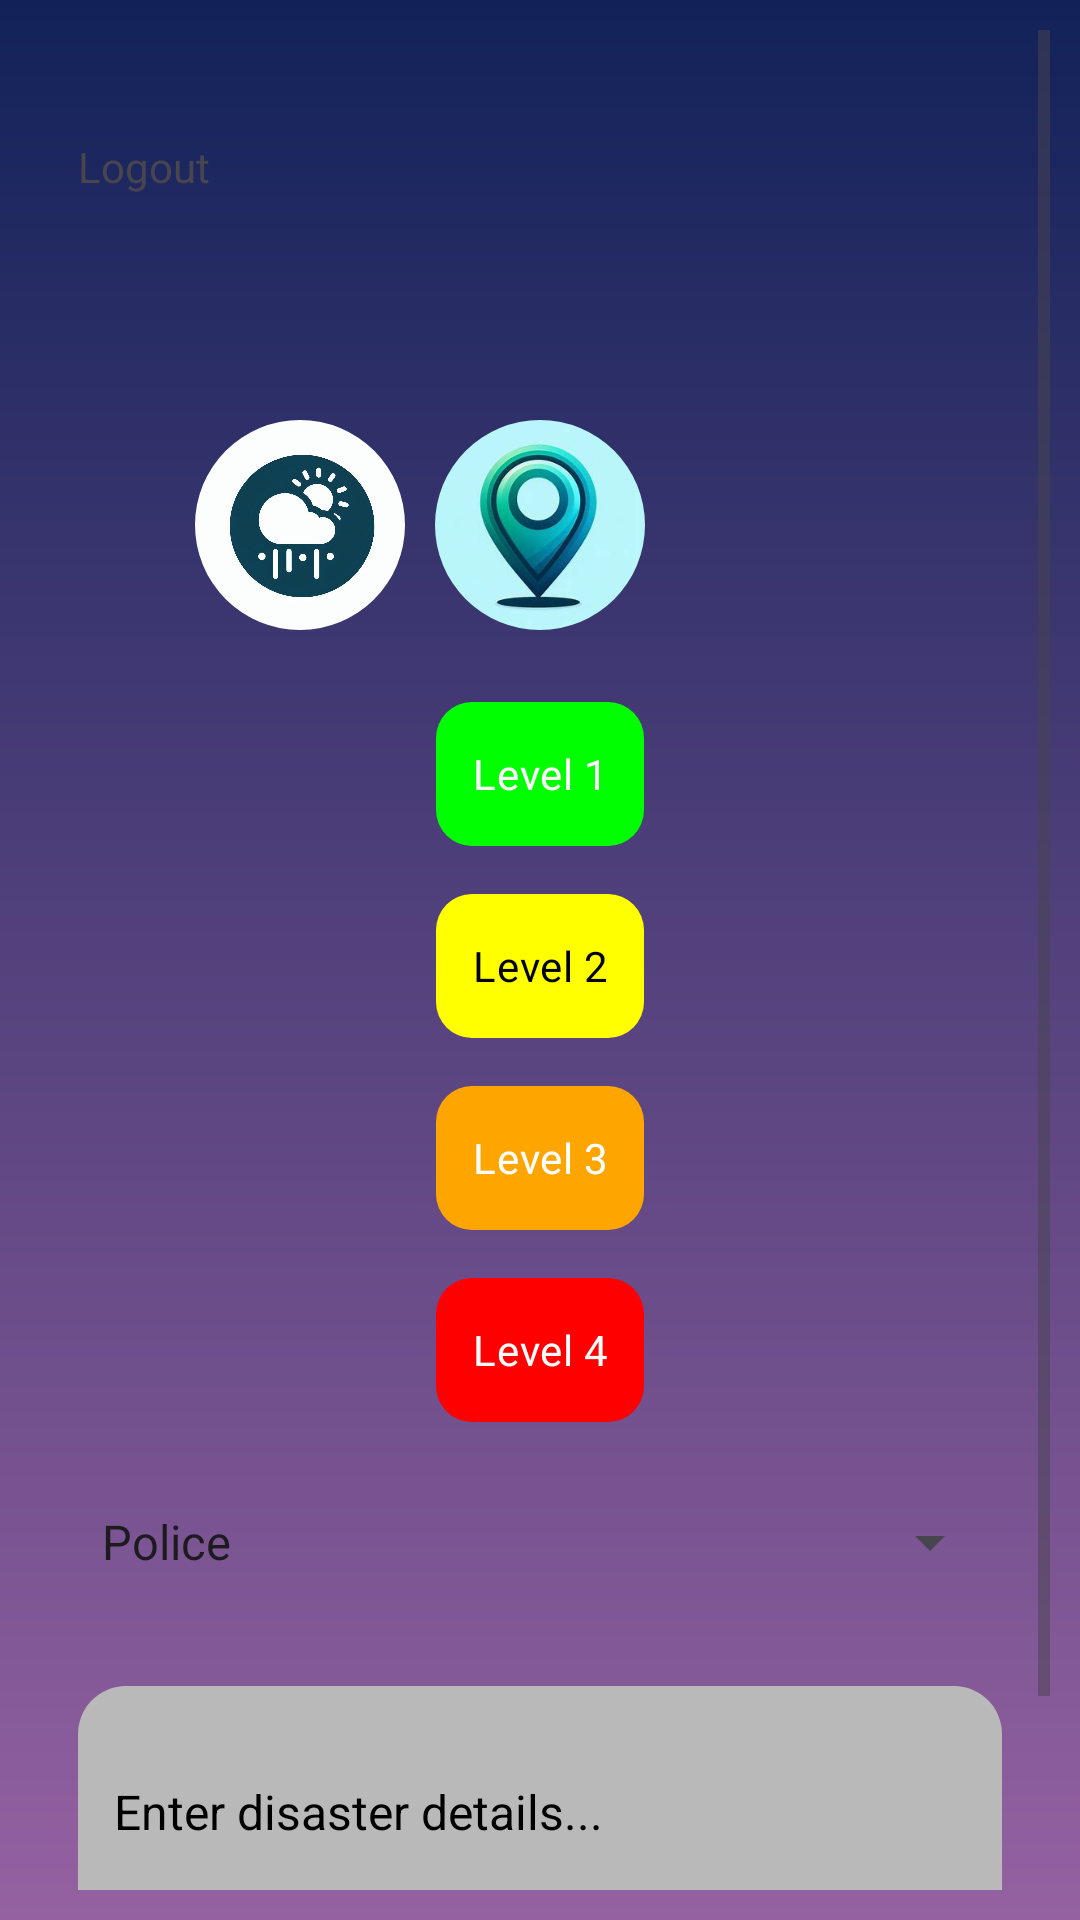

Icon click points for this 1080 x 1920 phone screenshot, format (x,y):
pointer: (540,525)
weather: (300,525)
